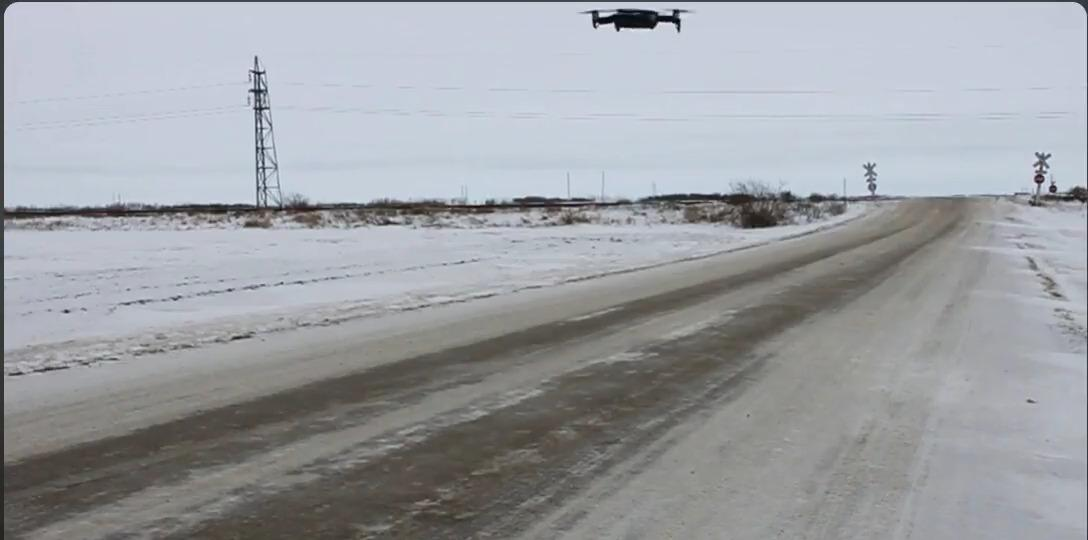dr: (553, 0, 726, 57)
